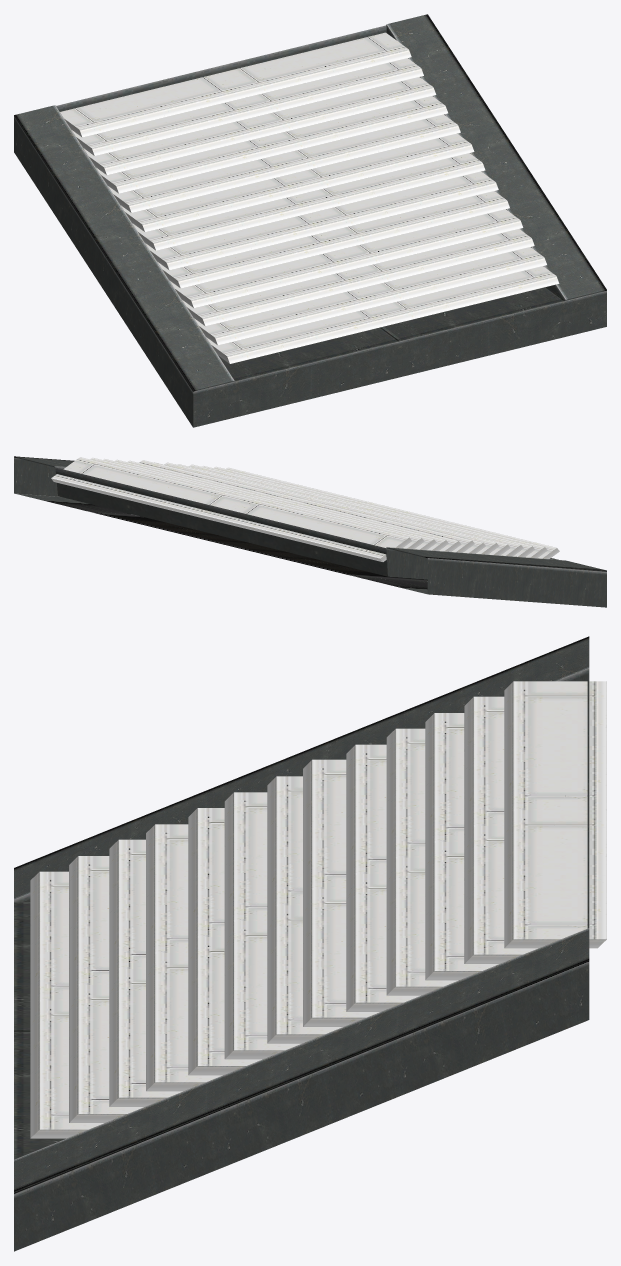
Rendered from Neon_Stairs_S.FBX.
3 renders of one model, top to bottom at view 1: azimuth 30°, elevation 25°; view 2: azimuth 150°, elevation 25°; view 3: azimuth 270°, elevation 25°, orthographic. The views are drawn at different scales.
Parts seen in each view (by area): view 1: Neon_Stairs_S; view 2: Neon_Stairs_S; view 3: Neon_Stairs_S.
Boxes of the visible parts, x1=… form: Neon_Stairs_S: x1=14, y1=14, x2=606, y2=427; Neon_Stairs_S: x1=14, y1=456, x2=606, y2=607; Neon_Stairs_S: x1=14, y1=636, x2=606, y2=1251.
Size of the model in its own units: 6 by 2.51 by 4.64.
